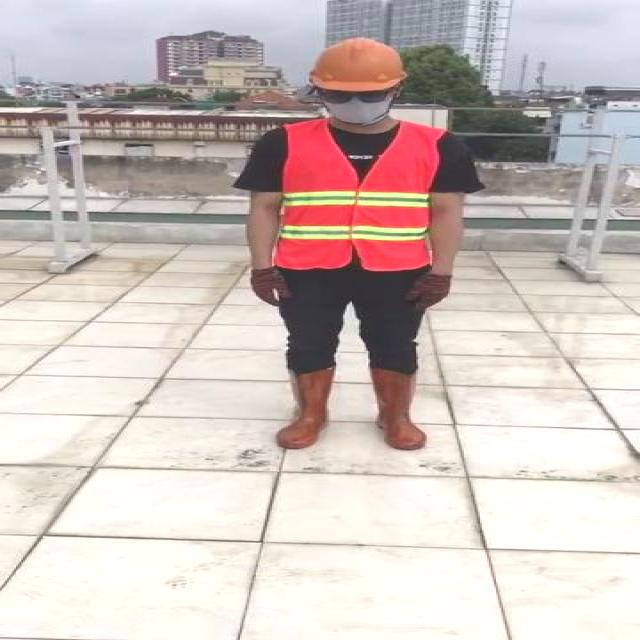boots: (274, 368, 338, 451), (373, 366, 427, 452)
face_mask: (318, 84, 396, 125)
glasses: (312, 86, 396, 110)
hand_glove: (404, 274, 454, 311), (249, 269, 293, 307)
head_helmet: (304, 32, 411, 94)
person: (238, 35, 466, 460)
vest: (276, 120, 442, 272)
